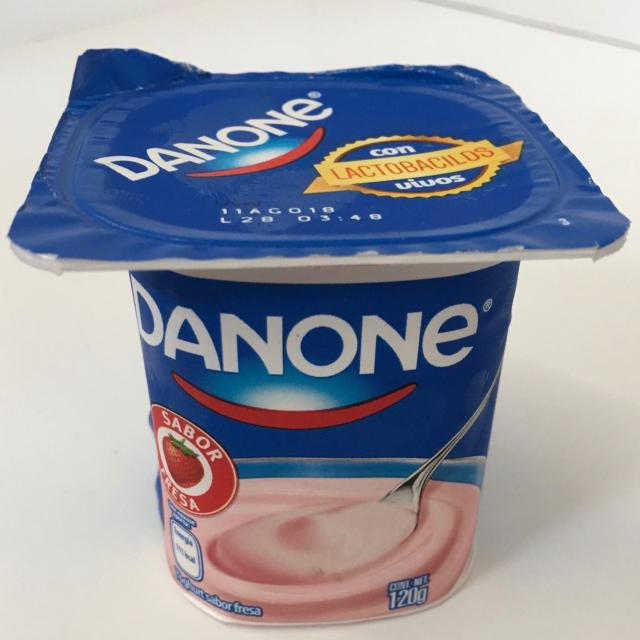yogurt: (8, 47, 630, 626)
